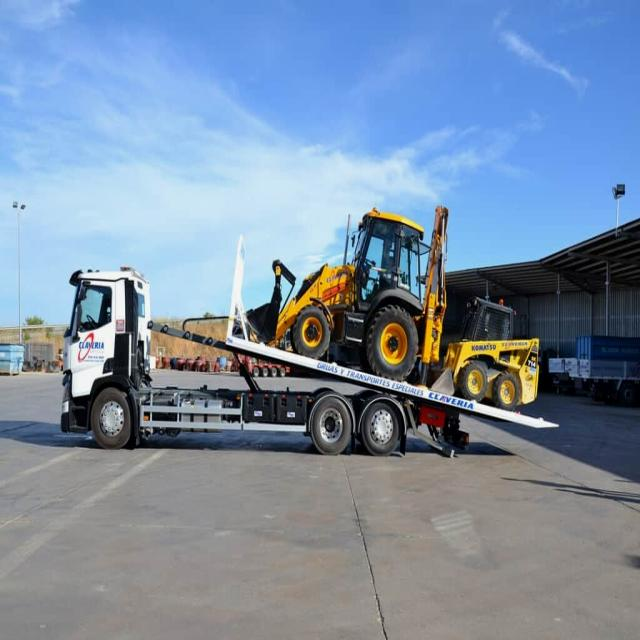TRUCK: (62, 266, 442, 457)
